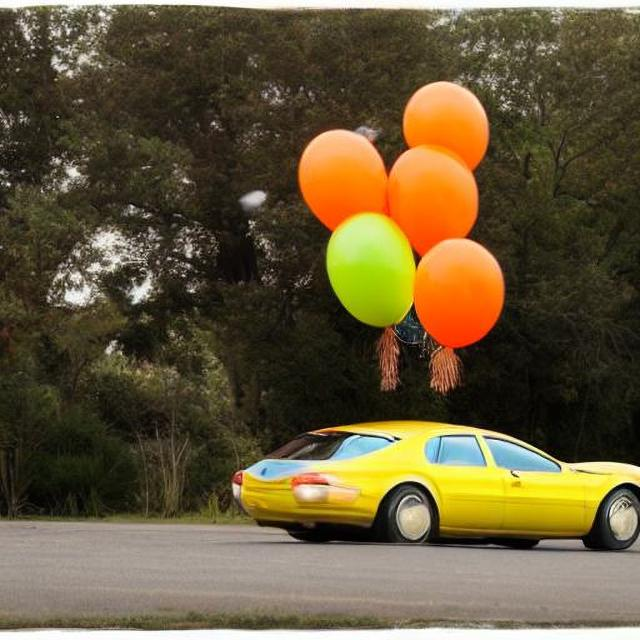balloon: (309, 81, 493, 358)
